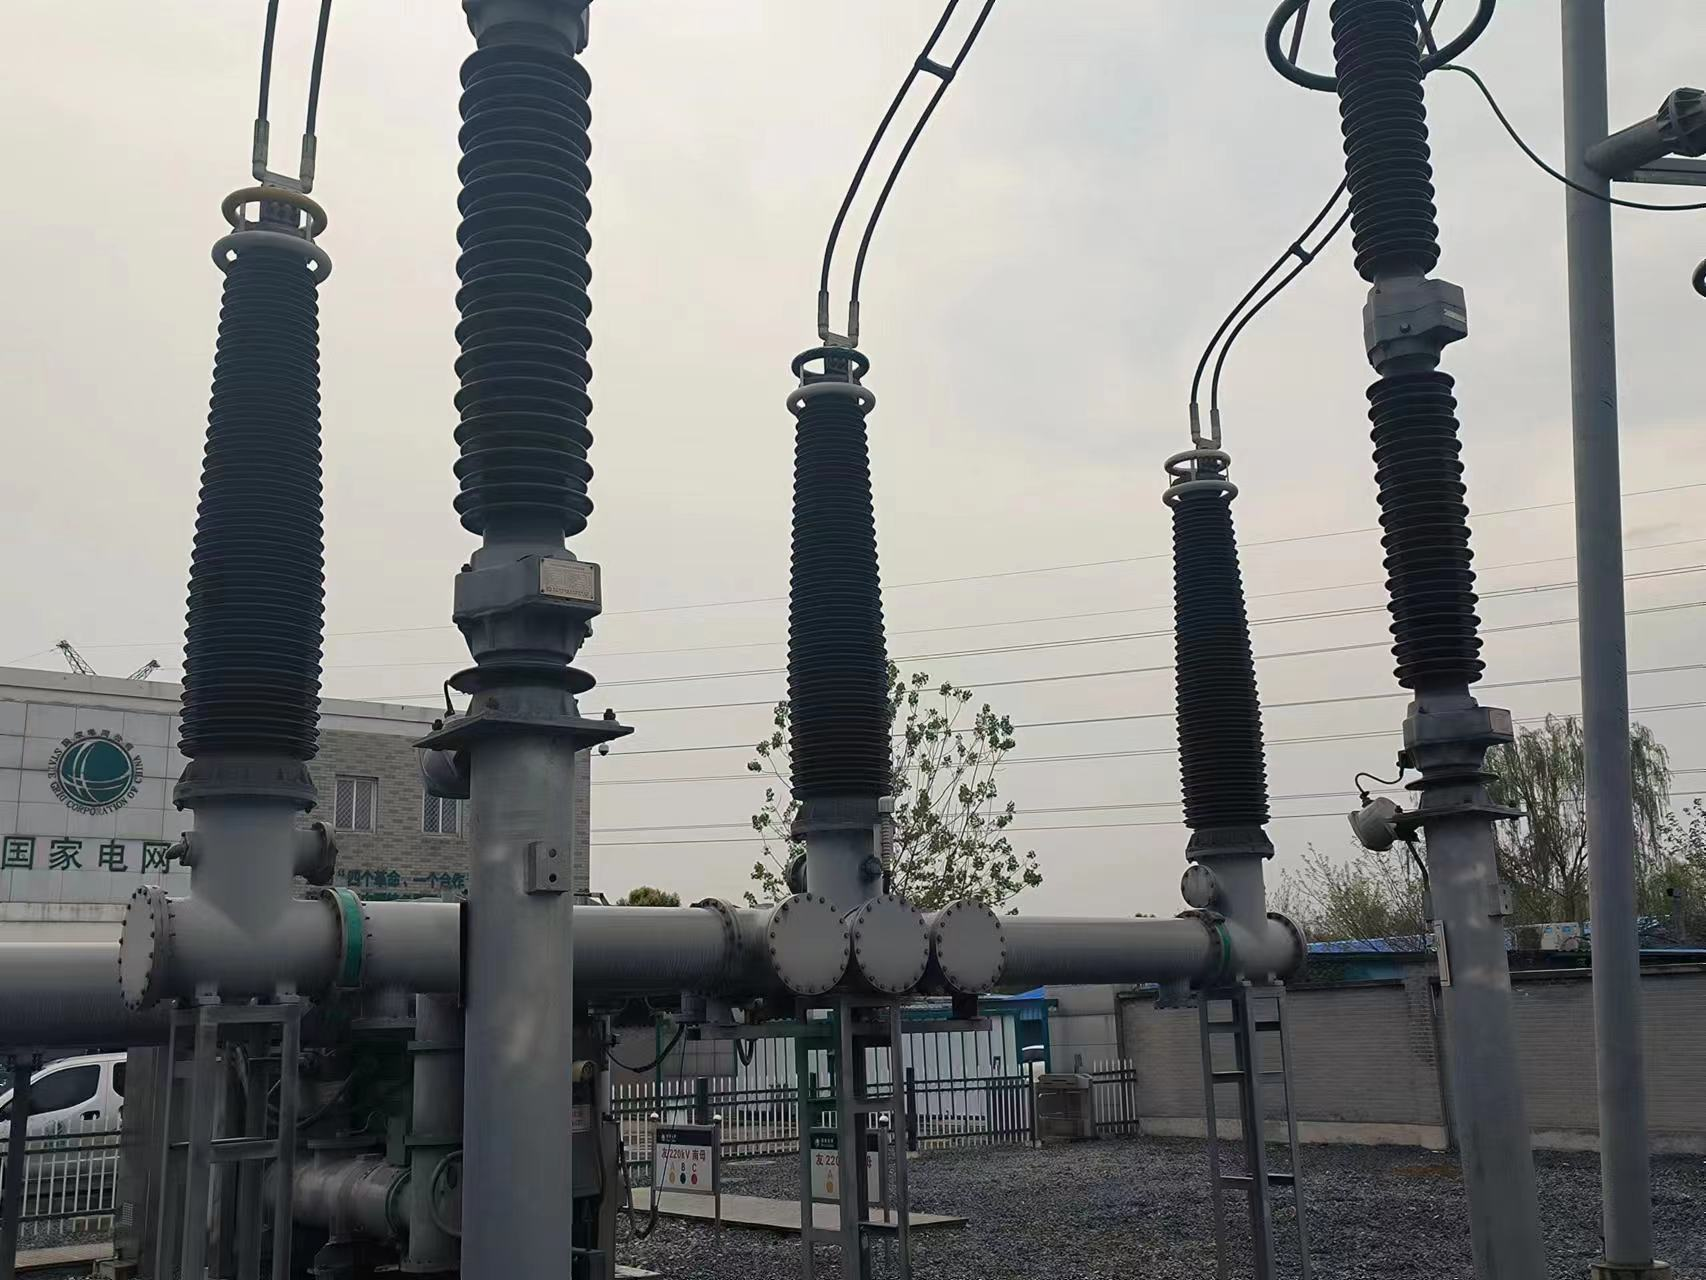Voltage transformer: (171, 182, 335, 805), (778, 346, 899, 826), (1160, 445, 1274, 850)
